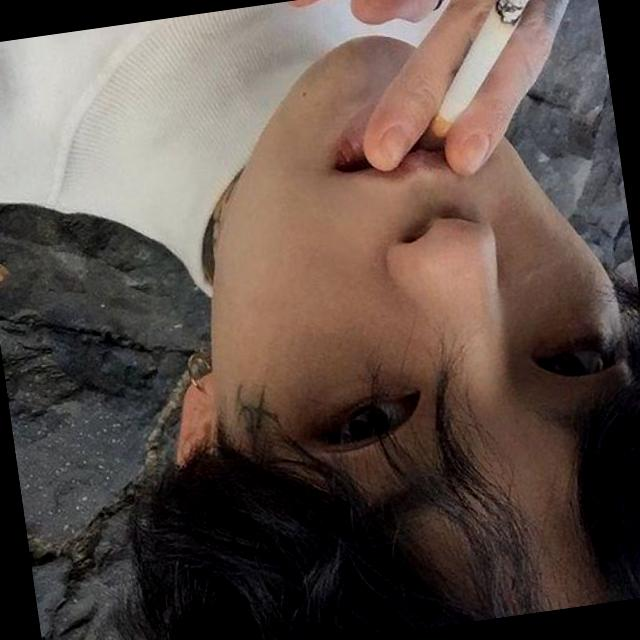smoke: (377, 0, 617, 174)
